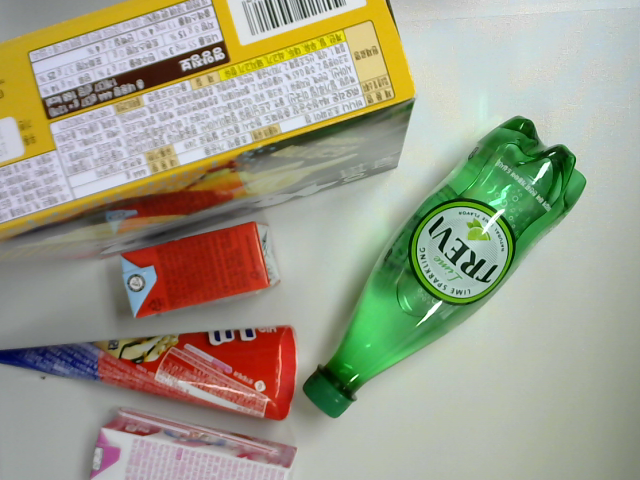Choco_Pie_Banana: (1, 2, 422, 279)
Picnic_Apple: (114, 210, 284, 328)
Strawberry_E_Mong: (78, 404, 313, 480)
Treviraim_500ml: (295, 110, 597, 433)
World_Cone_Banila: (1, 316, 301, 430)
